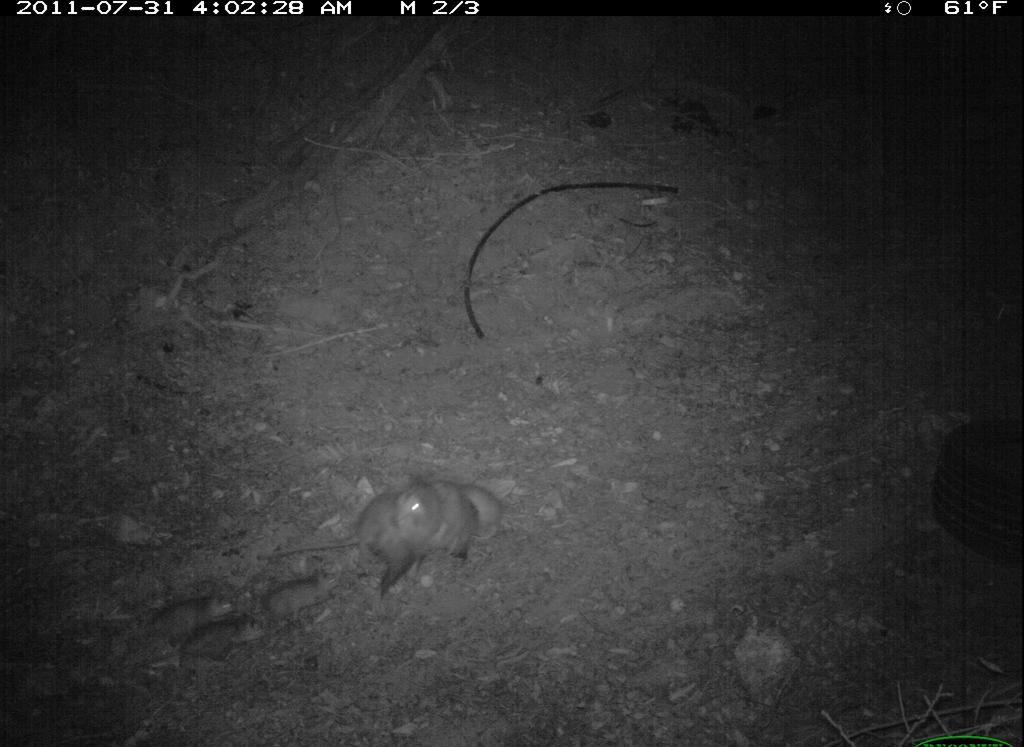opossum: (262, 457, 519, 589)
